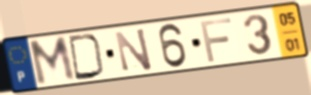3: (242, 13, 274, 58)
6: (157, 22, 189, 69)
D: (66, 33, 107, 82)
F: (198, 15, 235, 64)
M: (26, 34, 79, 88)
N: (112, 26, 155, 73)
